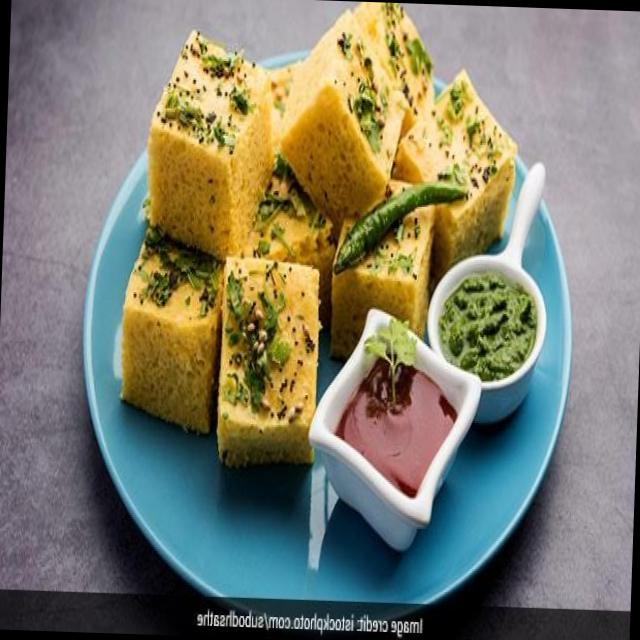dhokla: (121, 27, 492, 442)
